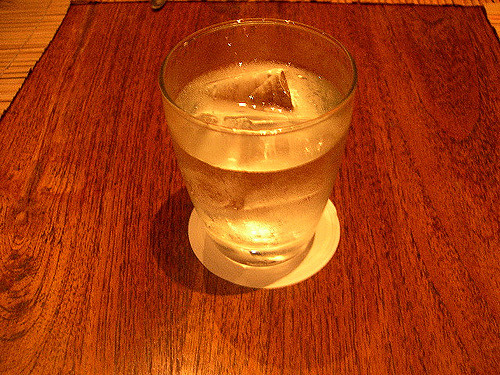glass of water: (163, 28, 338, 268)
